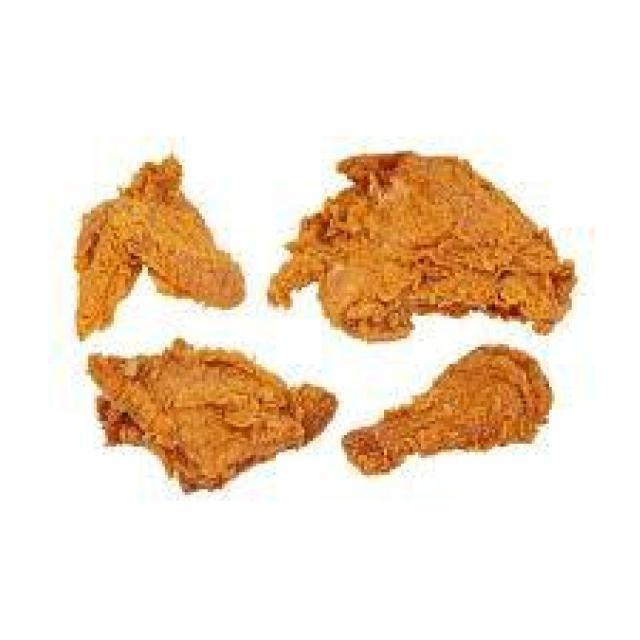Chicken -Fried Chicken-: (269, 153, 578, 345), (84, 340, 338, 495), (73, 156, 245, 344), (343, 347, 554, 478)
